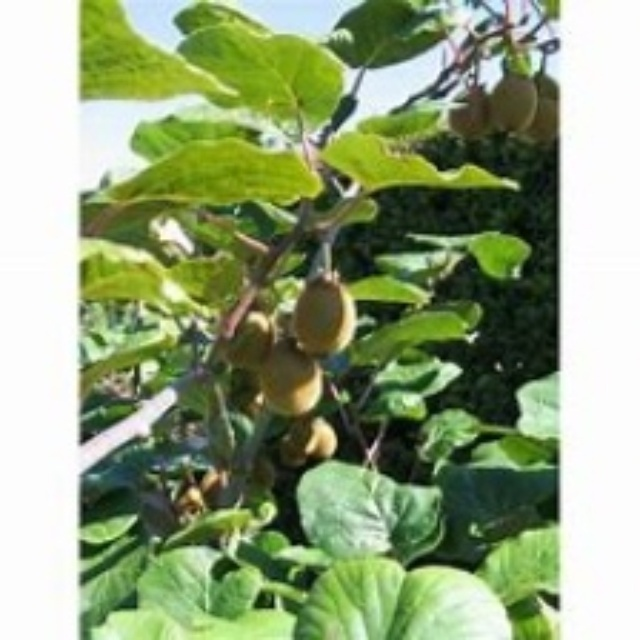kiwi: (448, 64, 570, 154), (222, 318, 324, 425), (290, 282, 351, 357)
